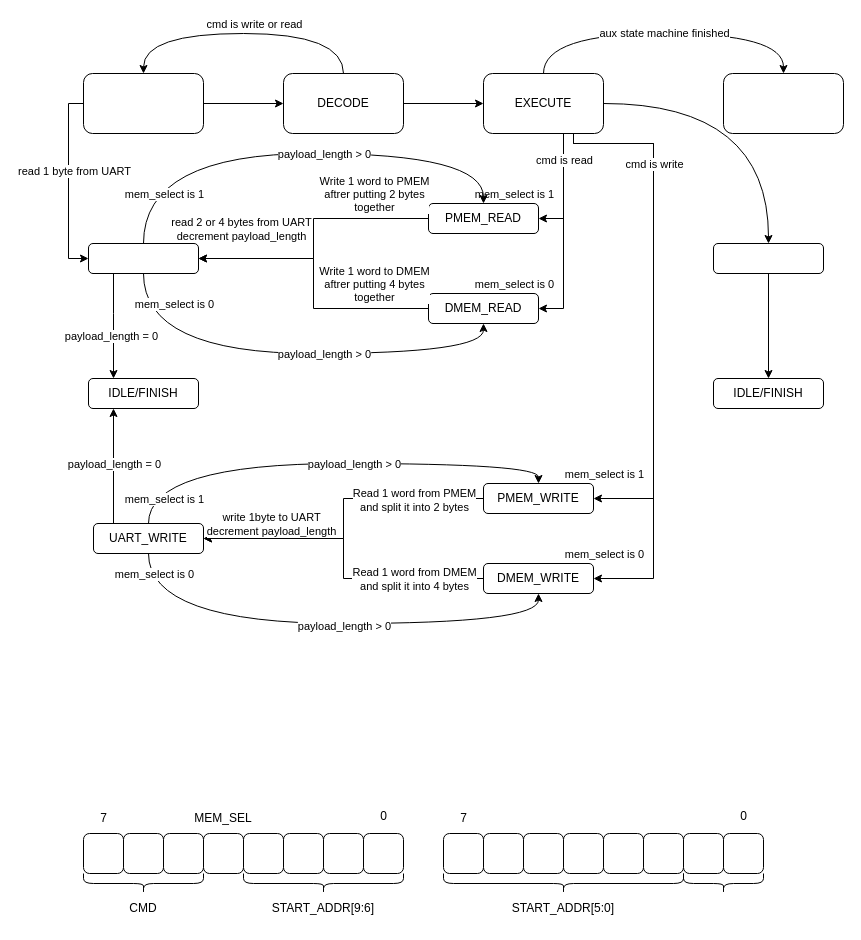
Some shapes in this 861 by 940 pixel diagram are drawn without their labels. Here are the shapes that lost their labels. From the top down, the centre of each, then its label:
At (x=143, y=103): "FETCH".
At (x=783, y=103): "FINISH".
At (x=143, y=258): "UART_READ".
At (x=768, y=258): "PS_CONTROL".
At (x=723, y=883): "PAYLOAD_LENGTH".
